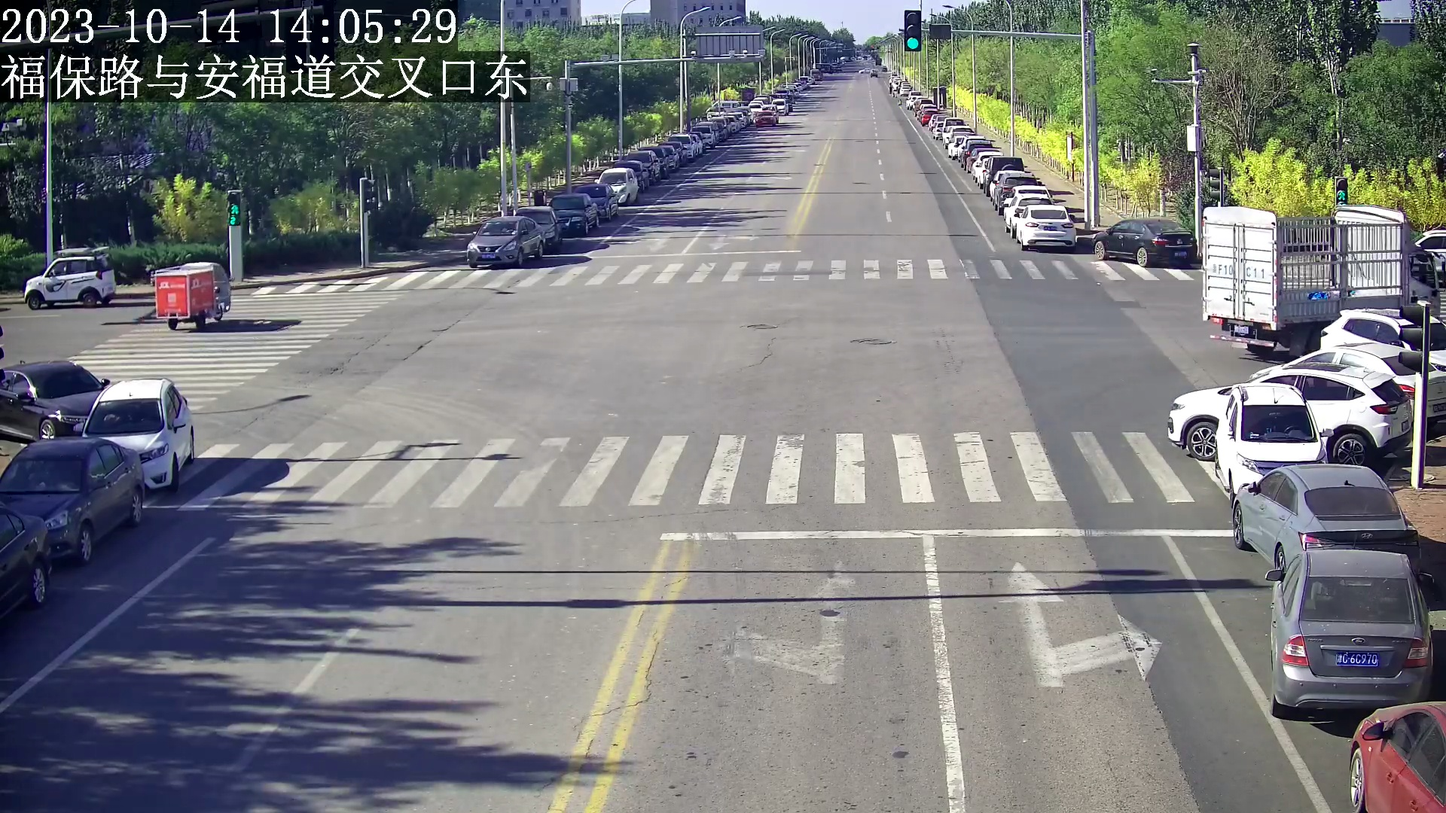vehicle: (1203, 205, 1445, 346), (1265, 550, 1432, 712), (1167, 370, 1413, 458), (1228, 464, 1420, 571), (2, 435, 146, 559), (82, 376, 193, 491), (1343, 697, 1445, 813), (1224, 383, 1322, 489), (2, 358, 105, 440), (21, 242, 116, 309), (1089, 212, 1197, 269), (154, 260, 232, 327), (467, 214, 543, 269), (1015, 203, 1073, 248)
